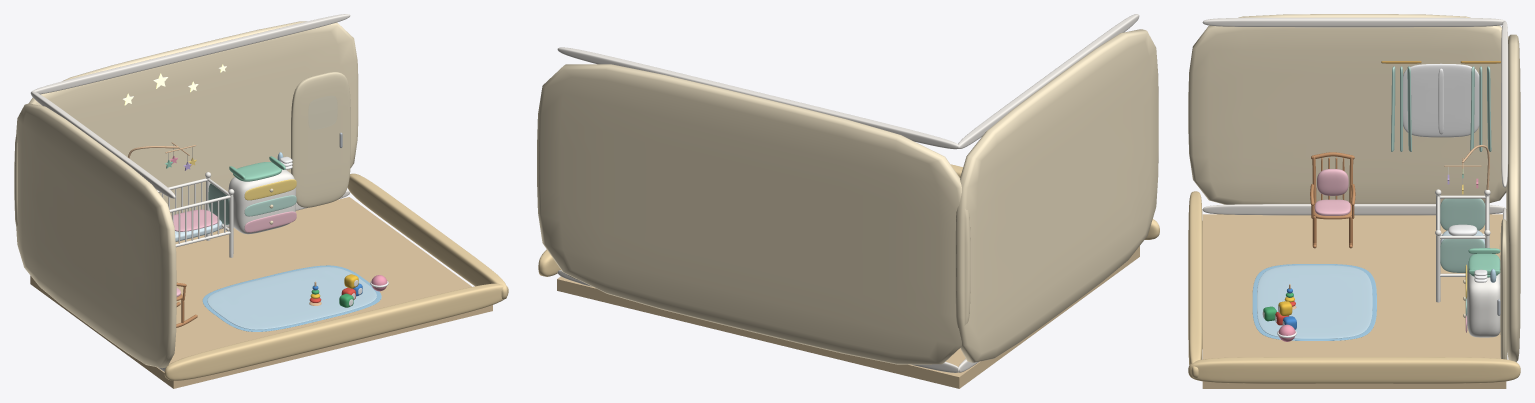
File: casa_cuna.glb
The picture shows the model from 3 angles, left to right: view 1: azimuth 30°, elevation 25°; view 2: azimuth 150°, elevation 25°; view 3: azimuth 270°, elevation 25°; orthographic projection. The views are drawn at different scales.
Parts seen in each view (by area): view 1: pared izquierda.002, pared fondo.002, piso.002, muro bajo frente.002, puerta.002, tapete.002, muro bajo derecha.002, cornisa fondo.002, cómoda, cornisa izquierda.002, borde tapete.002, cobija cuna (+5 smaller); view 2: pared fondo.002, pared izquierda.002, piso.002, cornisa fondo.002, cornisa izquierda.002; view 3: pared izquierda.002, piso.002, muro bajo derecha.002, tapete.002, marco, pared fondo.002, cornisa izquierda.002, muro bajo frente.002, zócalo izquierdo.002, cómoda, cabecera cuna, cornisa fondo.002 (+14 smaller).
Boxes of the visible parts, x1,y1,x2,y2 form: pared izquierda.002: (16,103,176,368); pared fondo.002: (14,21,358,226); piso.002: (30,197,492,388); muro bajo frente.002: (164,283,508,380); puerta.002: (291,72,350,207); tapete.002: (207,267,376,329); muro bajo derecha.002: (347,173,507,299); cornisa fondo.002: (30,14,350,94); cómoda: (228,169,295,234); cornisa izquierda.002: (31,91,175,198); borde tapete.002: (202,265,381,331); cobija cuna: (171,209,219,231); pared fondo.002: (537,64,970,364); pared izquierda.002: (955,29,1158,362); piso.002: (557,246,1139,388); cornisa fondo.002: (557,47,959,149); cornisa izquierda.002: (957,14,1139,148); pared izquierda.002: (1188,14,1520,204); piso.002: (1202,214,1506,388); muro bajo derecha.002: (1188,357,1520,383); tapete.002: (1257,265,1372,338); marco: (1403,63,1479,137); pared fondo.002: (1506,34,1520,362); cornisa izquierda.002: (1202,17,1504,27); muro bajo frente.002: (1188,191,1202,378); zócalo izquierdo.002: (1202,204,1506,215); cómoda: (1466,268,1500,337); cabecera cuna: (1440,198,1485,230); cornisa fondo.002: (1501,21,1508,187).
Bounding box in the file's own units: 5.8 × 3.15 × 4.6.
